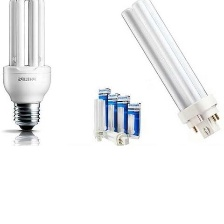carton: (95, 84, 112, 134), (104, 91, 122, 134), (113, 93, 131, 136), (125, 100, 142, 140)
light_bulb: (116, 0, 221, 140), (0, 0, 52, 135), (91, 97, 106, 142), (100, 129, 133, 148)
